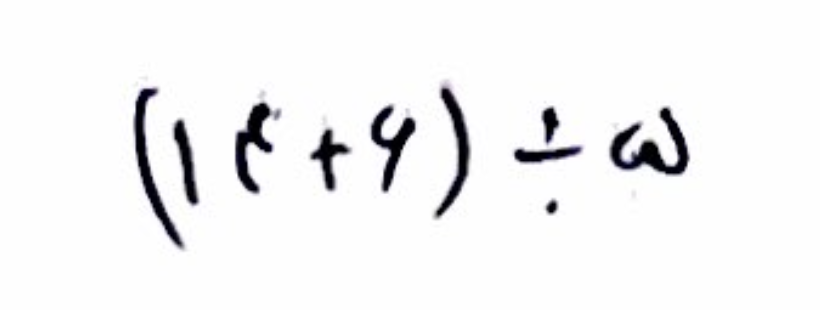character: (134, 87, 183, 251), (513, 106, 582, 215), (609, 105, 688, 175), (434, 85, 471, 221), (370, 104, 415, 193), (236, 103, 272, 193), (174, 120, 201, 205), (312, 129, 347, 194)
